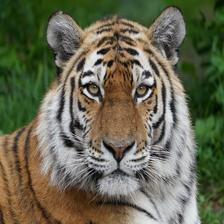tiger: (42, 8, 209, 224)
